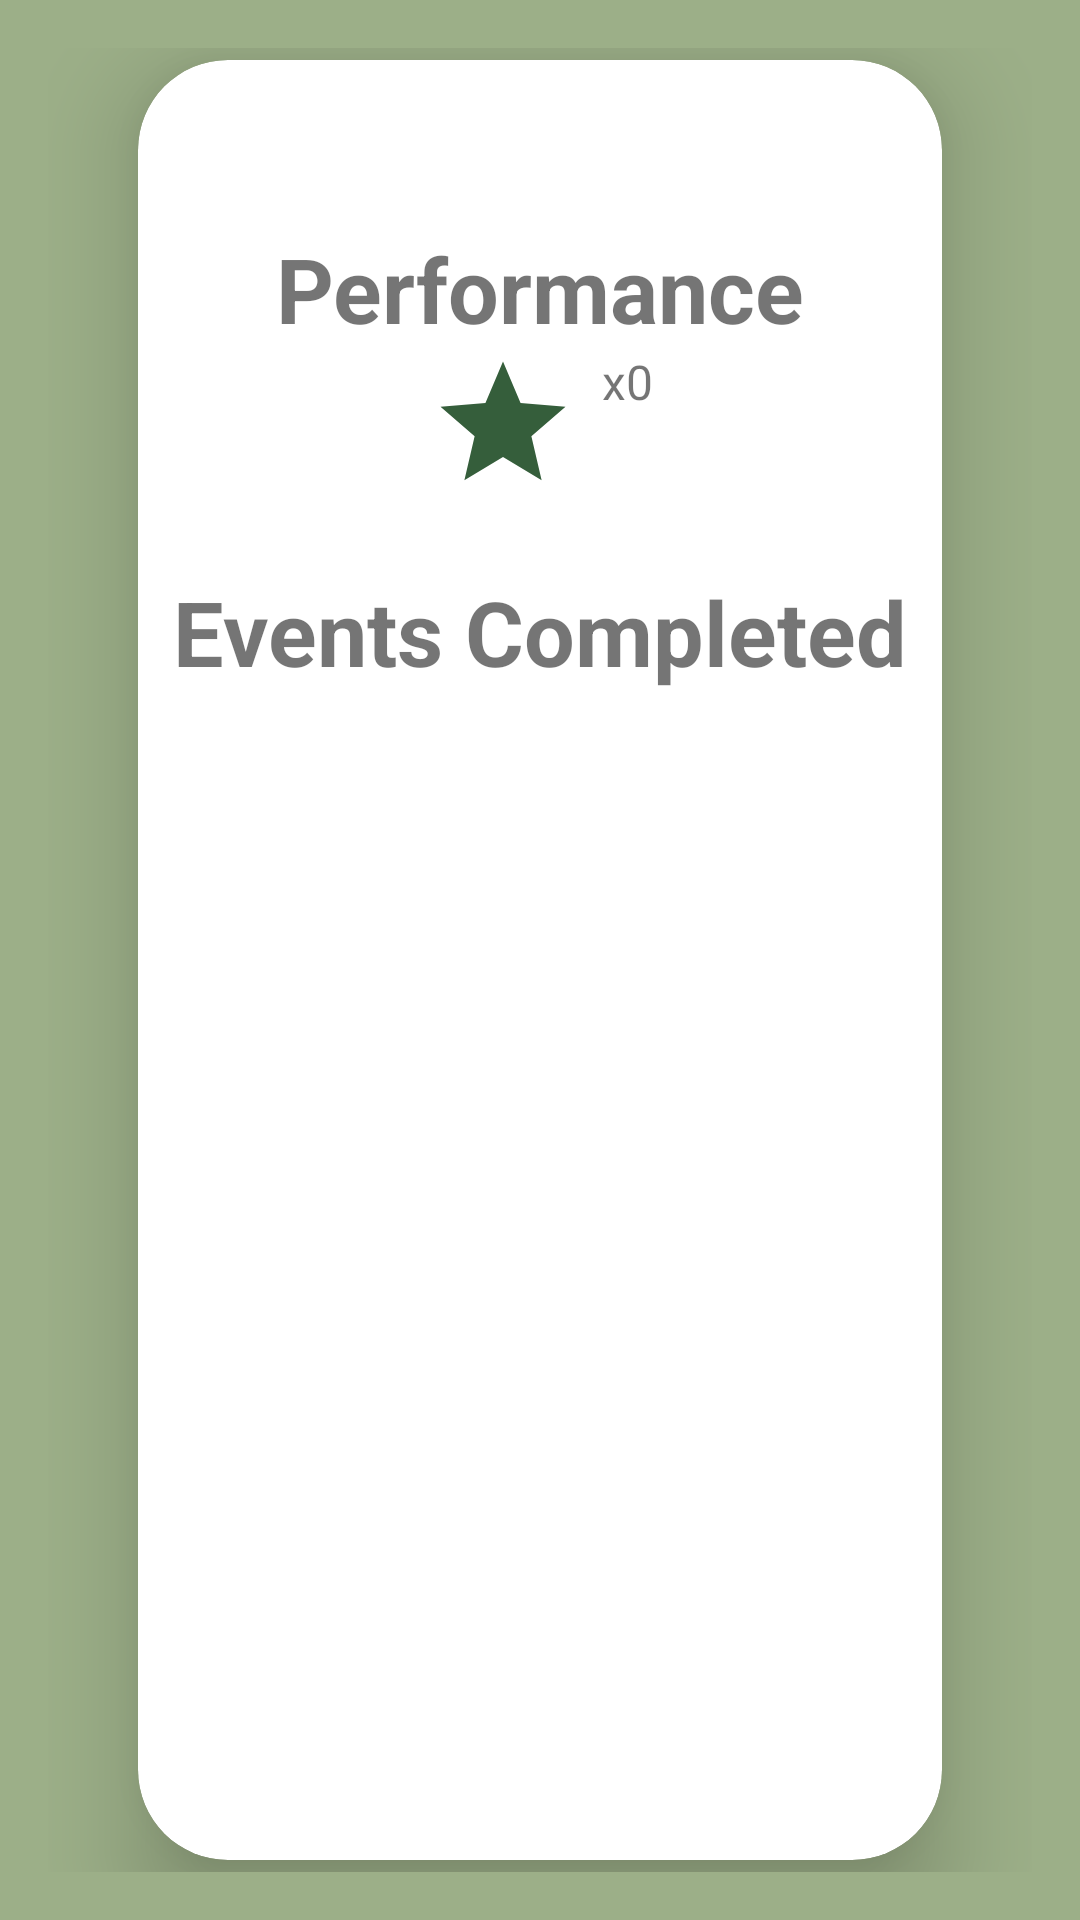

Where icons sit on this 1080px×1920px app screen, as BBox(x1, y1, x2, y2):
star: BBox(441, 362, 565, 480)
